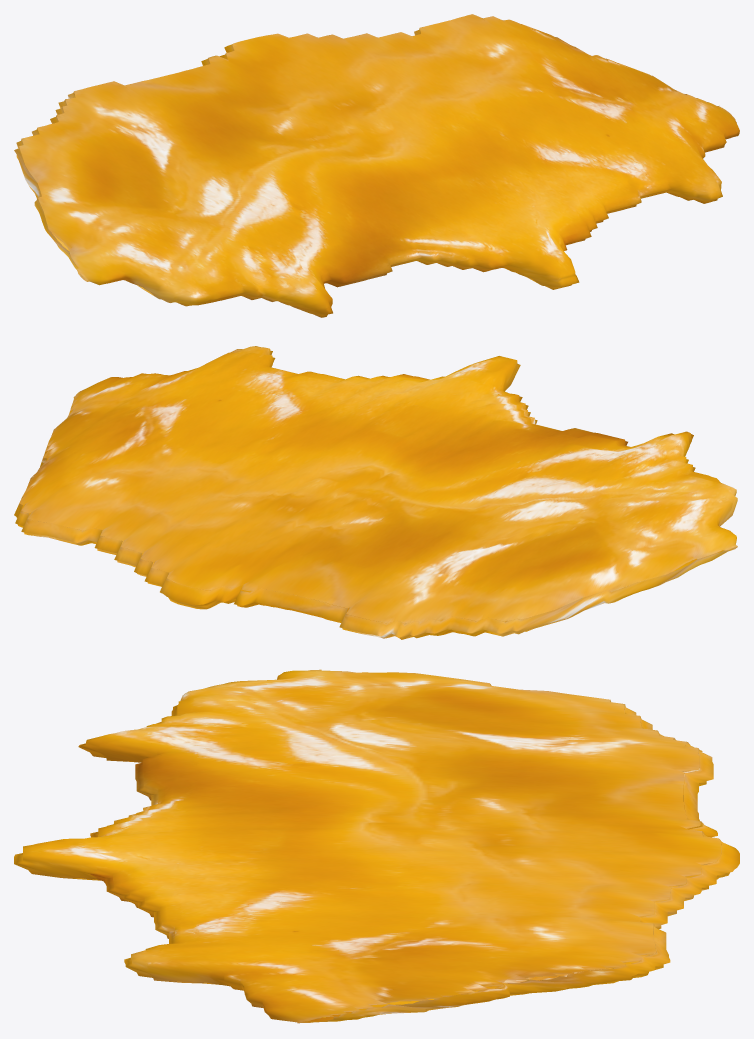
Rendered from american-cheese-sauce.glb.
3 views of the same model, one above another, from view 1: azimuth 30°, elevation 25°; view 2: azimuth 150°, elevation 25°; view 3: azimuth 270°, elevation 25° (orthographic). The views are drawn at different scales.
Parts seen in each view (by area): view 1: american-cheese-sauce; view 2: american-cheese-sauce; view 3: american-cheese-sauce.
Part boxes in pixels (bbox=[...]): american-cheese-sauce: bbox=[14, 14, 739, 317]; american-cheese-sauce: bbox=[14, 346, 737, 639]; american-cheese-sauce: bbox=[14, 669, 739, 1023].
Size of the model in its own units: 1.02 by 0.052 by 0.89.
1 material, 1 textured.
